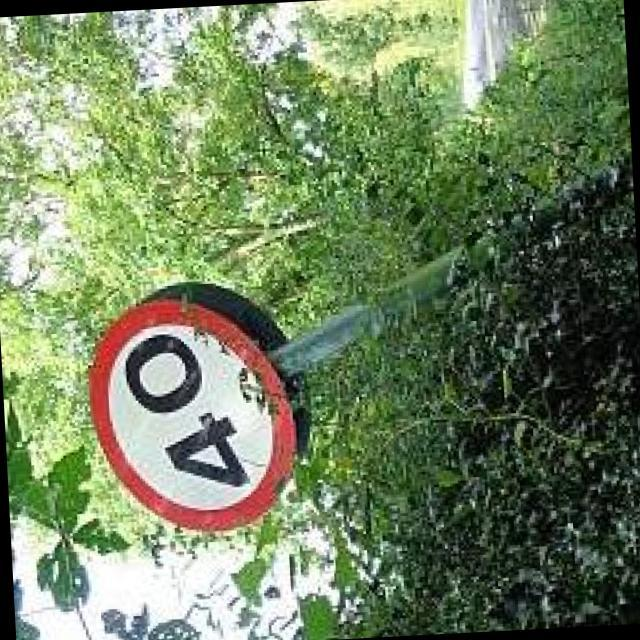obstructed_road_sign: (92, 296, 298, 530)
